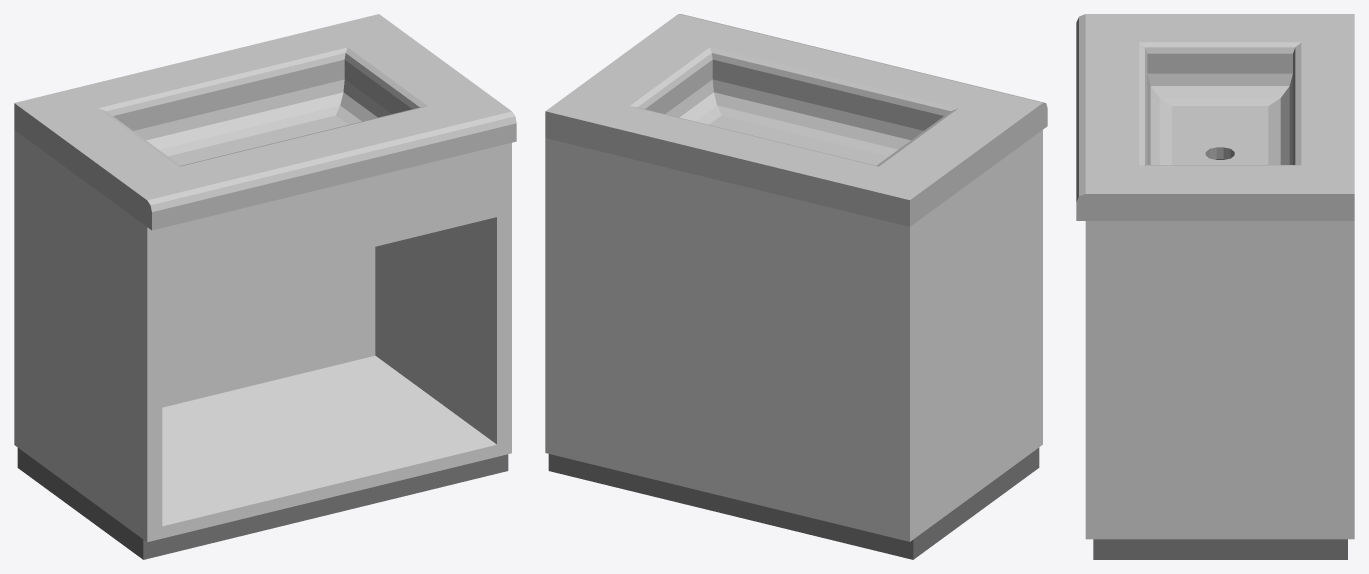
The model's file is counter_sink.glb.
3 renders of one model, left to right at view 1: azimuth 30°, elevation 25°; view 2: azimuth 150°, elevation 25°; view 3: azimuth 270°, elevation 25°, orthographic.
Parts seen in each view (by area): view 1: Counter (Connected - Sink); view 2: Counter (Connected - Sink); view 3: Counter (Connected - Sink).
Boxes of the visible parts, box(x1,y1,x2,y2) form: Counter (Connected - Sink): box(14, 14, 516, 559); Counter (Connected - Sink): box(545, 14, 1047, 559); Counter (Connected - Sink): box(1076, 14, 1354, 559).
Bounding box in the file's own units: 1 × 0.949 × 0.6537.
1 material, 1 textured.
